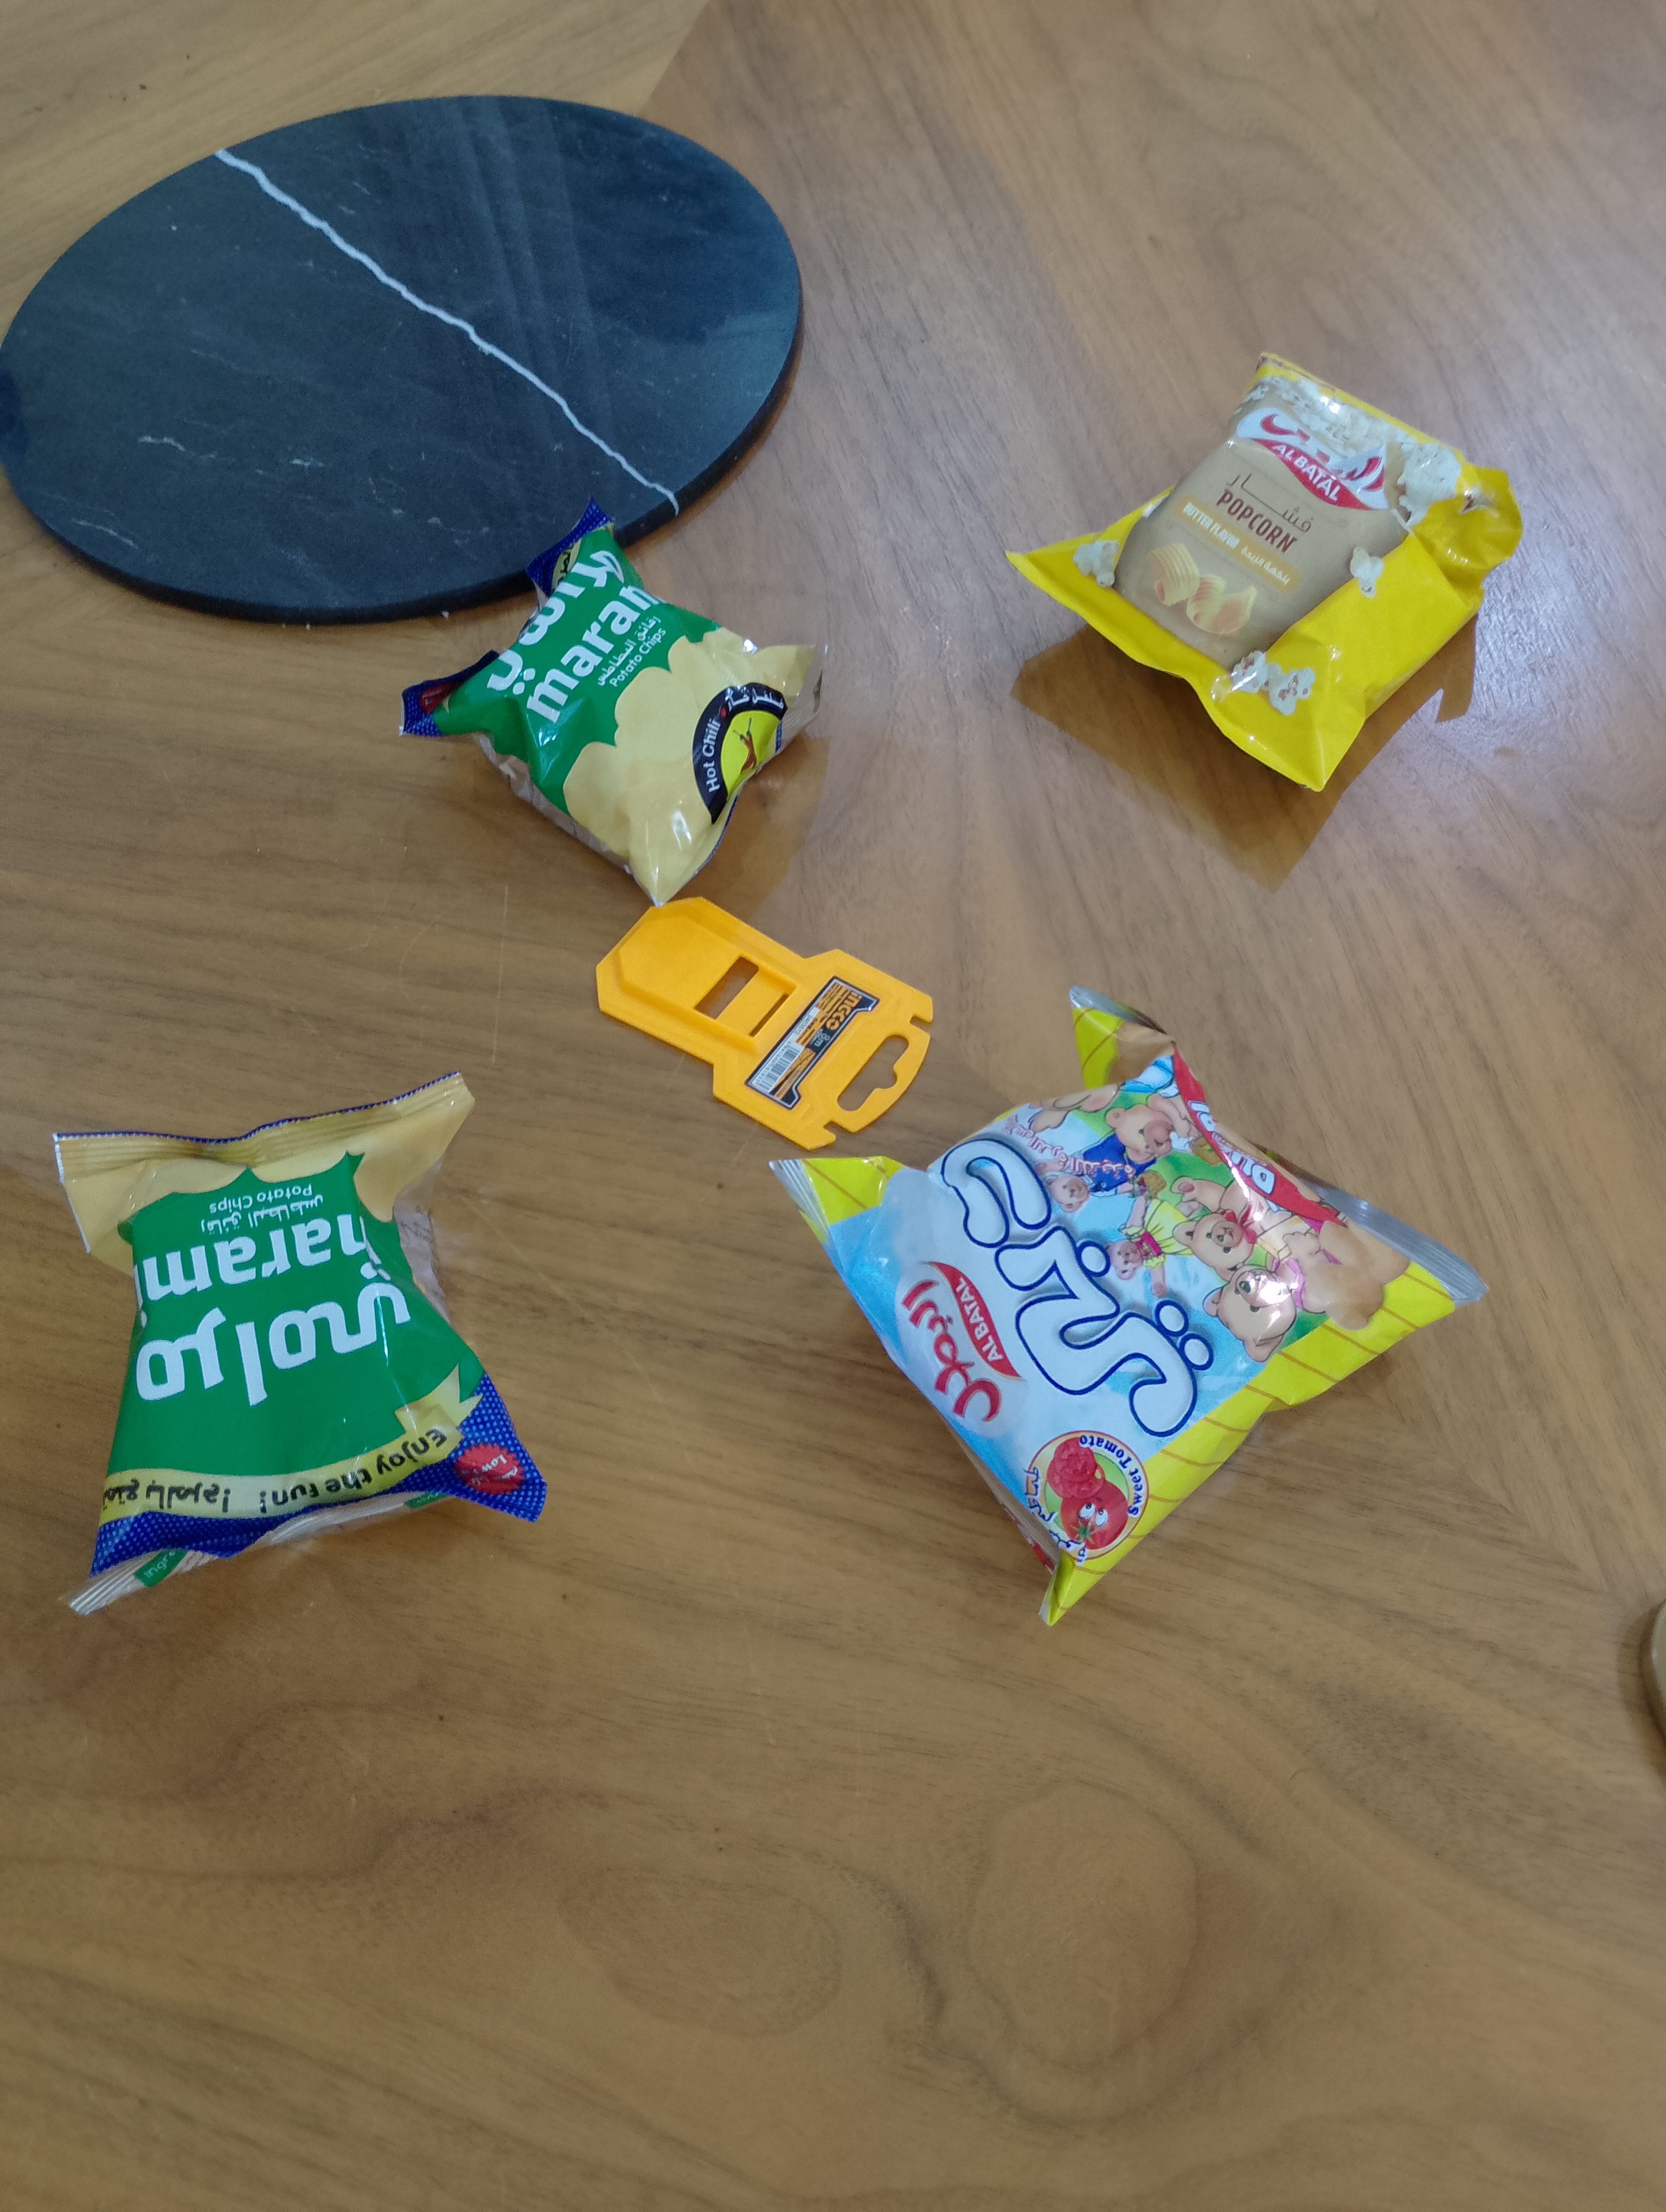albatal_dubbi_corn_snack: (766, 984, 1488, 1626)
albatal_popcorn_butter_flavor: (1001, 350, 1523, 792)
marami_hot_chili: (52, 1068, 550, 1617), (397, 490, 830, 909)
